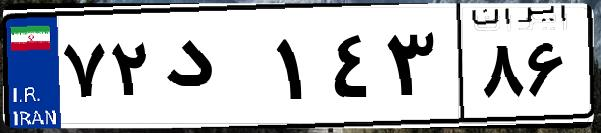1: (270, 28, 330, 110)
2: (110, 28, 158, 98)
3: (385, 28, 445, 110)
4: (330, 28, 385, 110)
6: (525, 38, 570, 115)
7: (57, 26, 110, 100)
8: (475, 38, 525, 113)
د: (158, 20, 270, 120)
